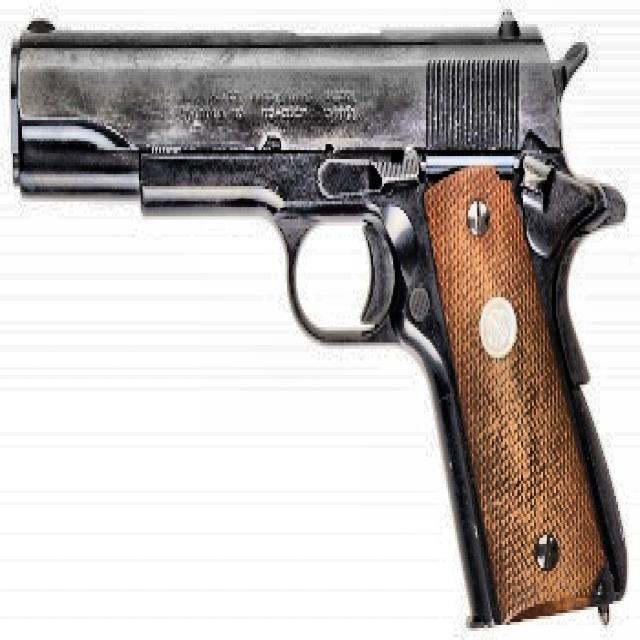Colt m1911: (7, 6, 629, 631)
